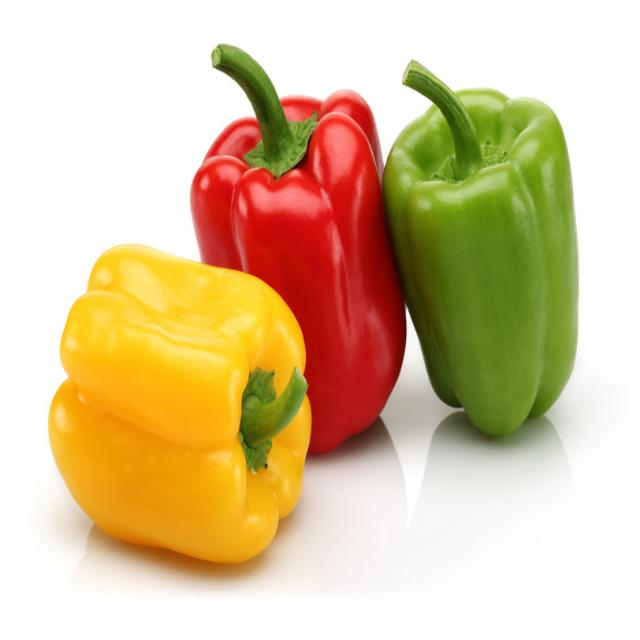bell pepper: (33, 227, 313, 574), (382, 52, 585, 459), (203, 28, 385, 278)
